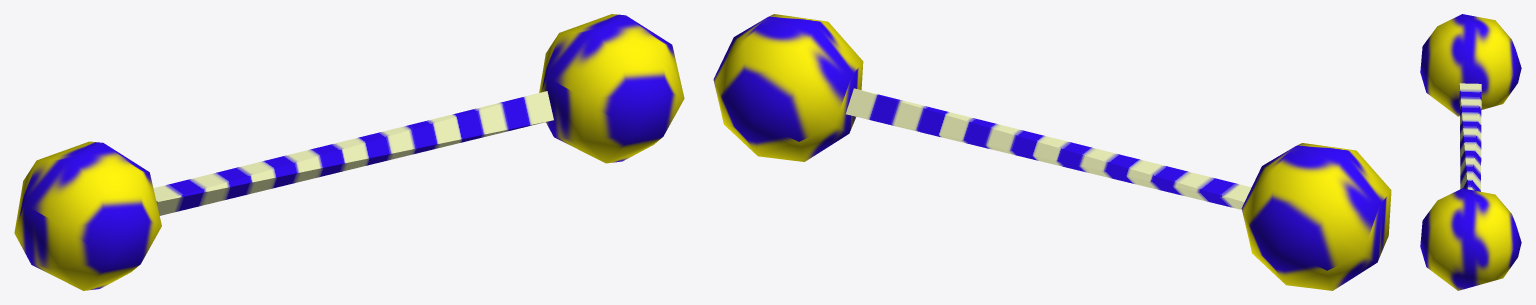
Rendered from RodDecimated.fbx.
3 renders of one model, left to right at view 1: azimuth 30°, elevation 25°; view 2: azimuth 150°, elevation 25°; view 3: azimuth 270°, elevation 25°, orthographic. The views are drawn at different scales.
Visible parts, largest first — view 1: Sphere.001, Sphere.003, Cylinder; view 2: Sphere.001, Sphere.003, Cylinder; view 3: Sphere.003, Sphere.001, Cylinder.
Part boxes in pixels (x1=…): Sphere.001: x1=14, y1=141, x2=161, y2=290; Sphere.003: x1=539, y1=14, x2=684, y2=163; Cylinder: x1=153, y1=91, x2=553, y2=215; Sphere.001: x1=1241, y1=143, x2=1391, y2=290; Sphere.003: x1=713, y1=14, x2=863, y2=161; Cylinder: x1=846, y1=88, x2=1251, y2=209; Sphere.003: x1=1420, y1=188, x2=1521, y2=290; Sphere.001: x1=1420, y1=14, x2=1521, y2=116; Cylinder: x1=1459, y1=83, x2=1481, y2=191.
Size of the model in its own units: 508 by 101 by 101.
Materials: 2 (2 with a texture image).
